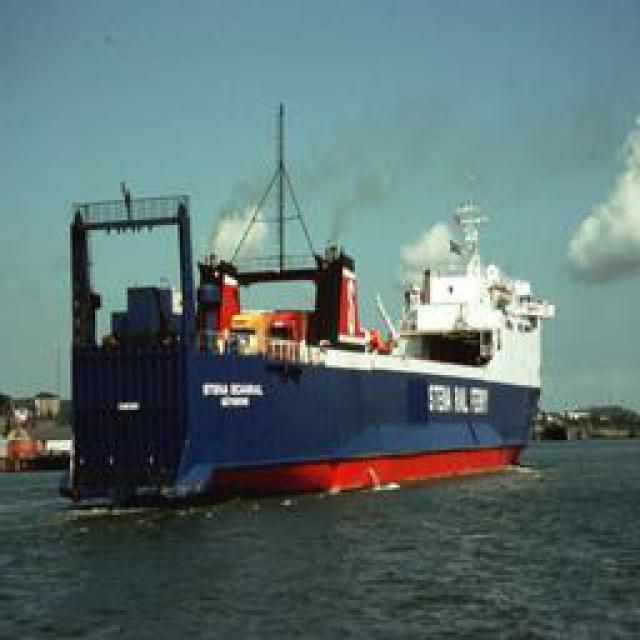Ship: (65, 115, 553, 503)
